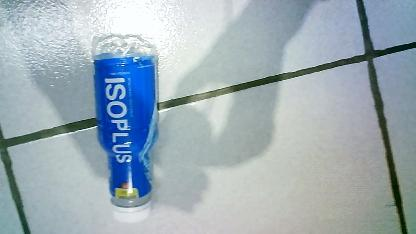Plastic Bottle: (88, 30, 160, 224)
